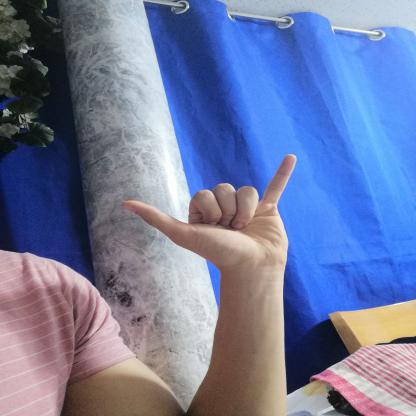YA: (112, 145, 310, 284)
